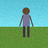person: (20, 8, 33, 37)
